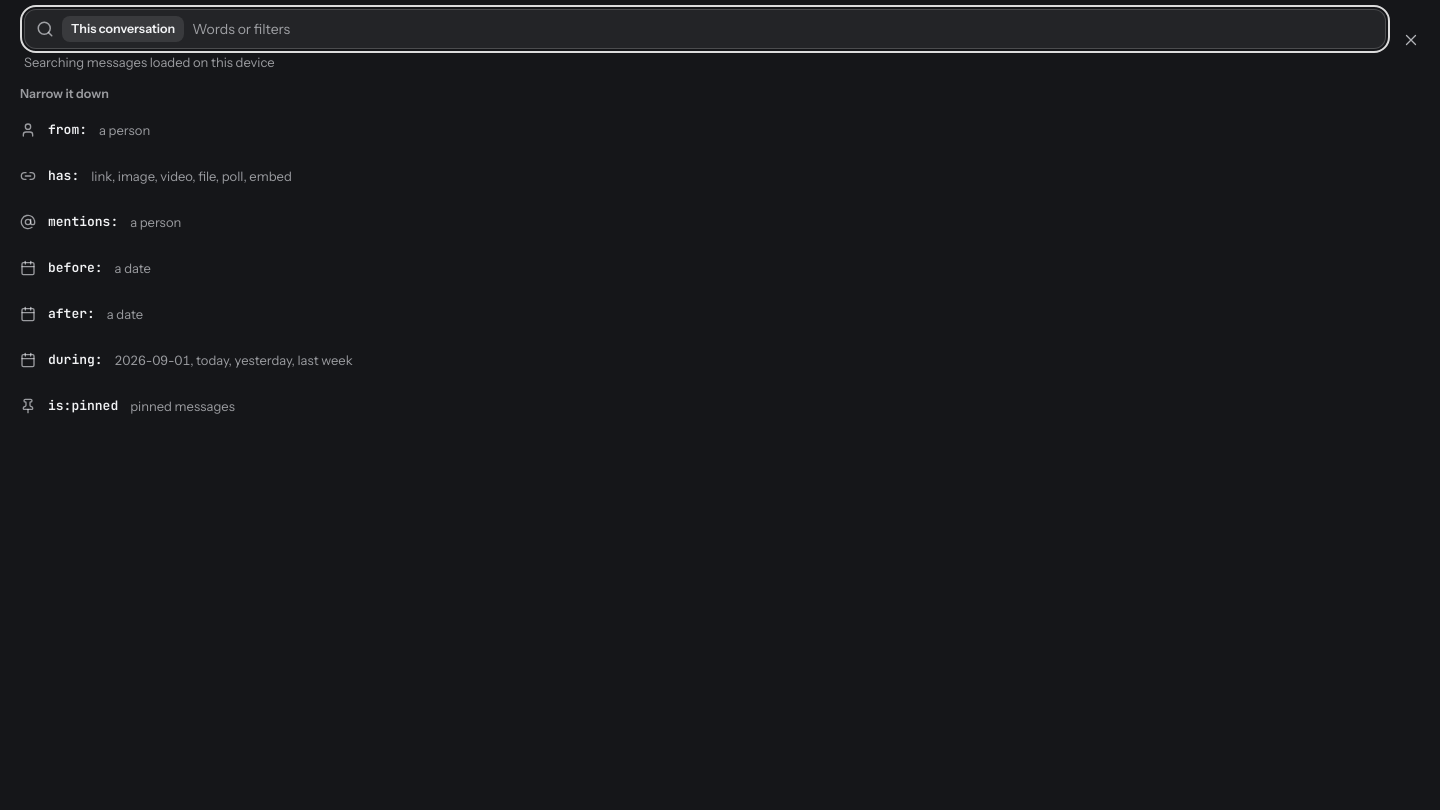
Test: SearchOverlay › searches a direct conversation on this device only
Expected: the text "This conversation" is shown, 62,16 -> 184,42
Expected: the text "Searching messages loaded on this device" is shown, 24,54 -> 275,70
Type "postgres" into the dropdown named "Search messages" at (783, 29), box 192,20 -> 1374,38
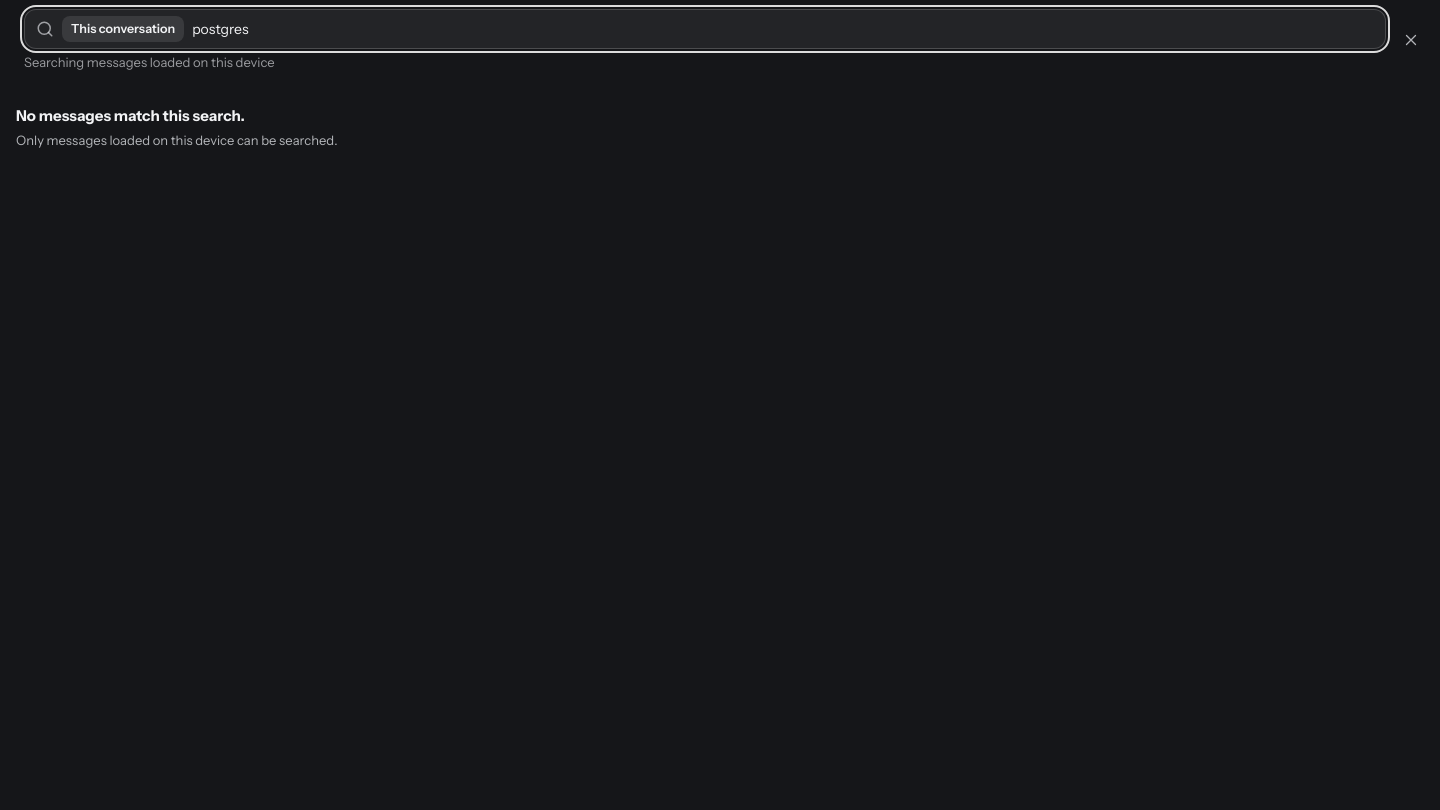
Now the text "No messages match this search." is shown, box 16,106 -> 245,125
